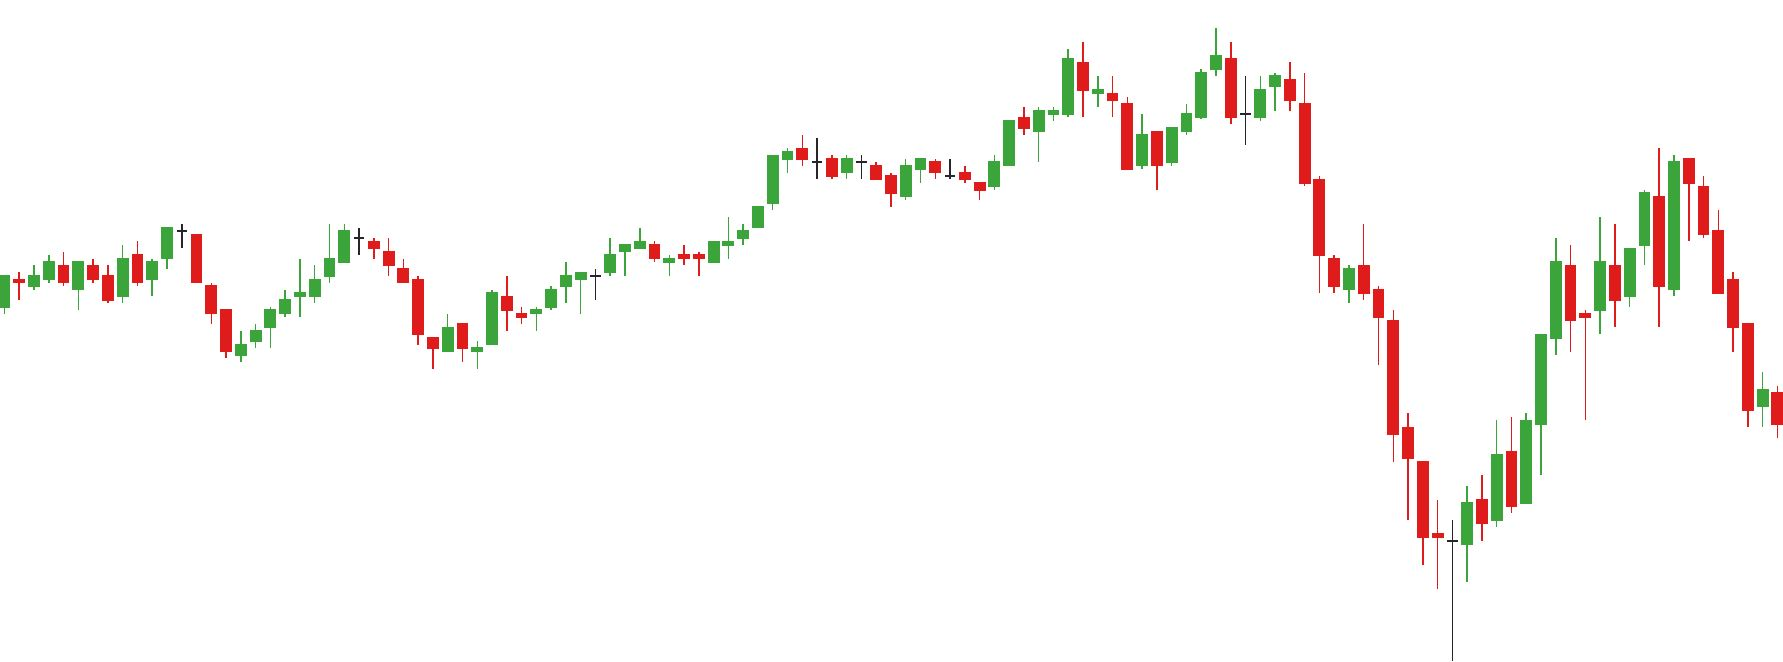buy: (232, 263, 454, 372)
sell: (1058, 24, 1222, 118)
